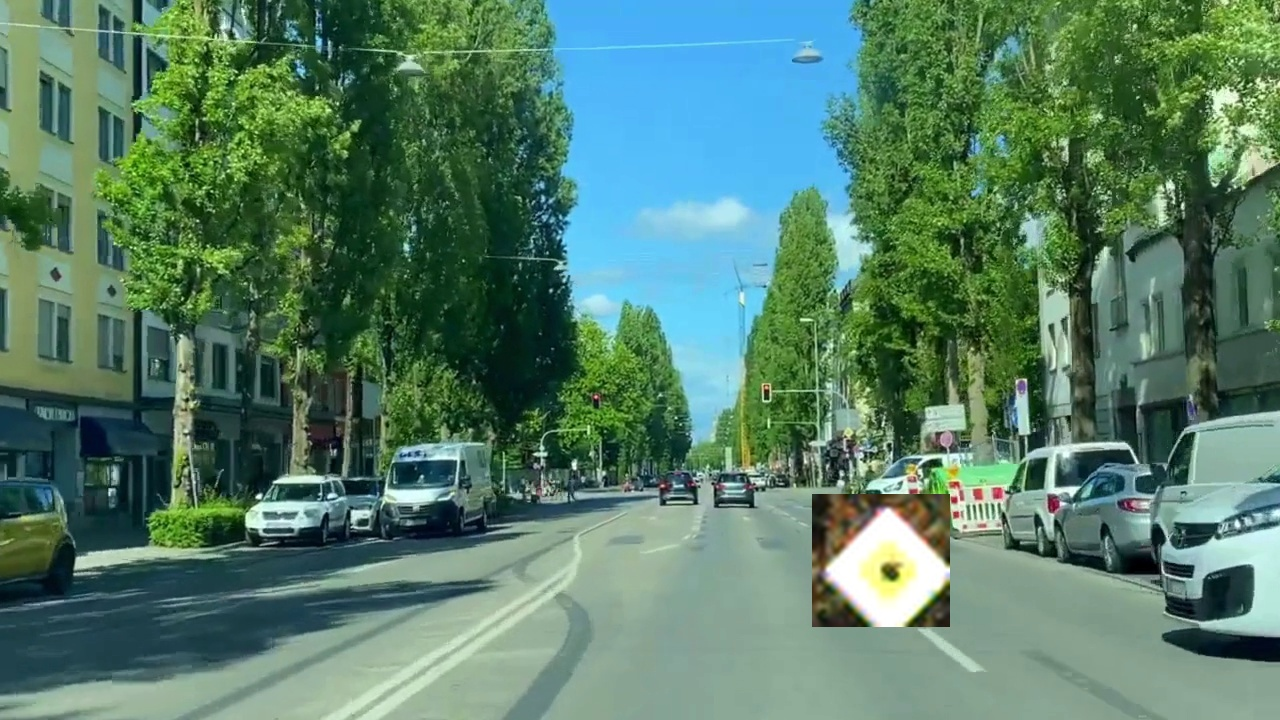Priority road: (812, 494, 950, 627)
